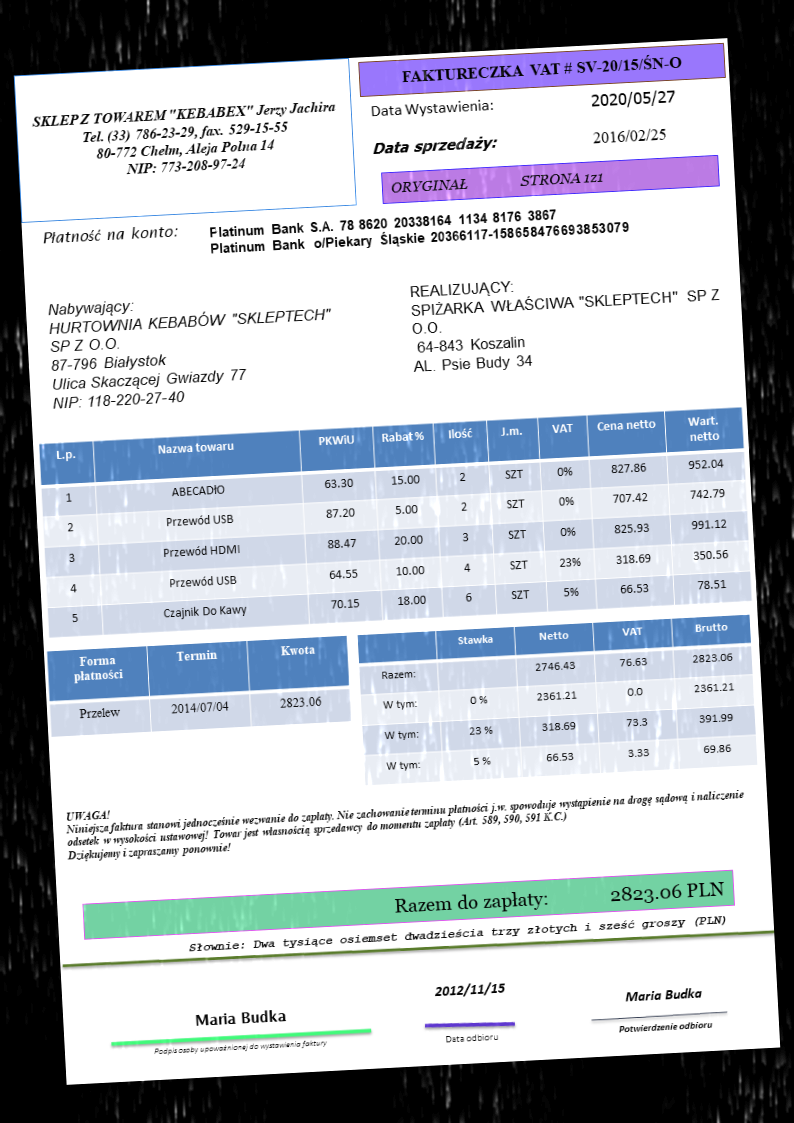Table: (37, 404, 753, 642), (354, 612, 759, 788), (46, 633, 354, 739)
TextBox: (63, 772, 747, 865), (45, 285, 339, 412), (406, 266, 726, 375), (28, 95, 340, 186), (207, 201, 634, 260), (183, 911, 728, 956), (389, 875, 727, 922), (400, 48, 689, 89), (388, 167, 606, 197), (150, 1036, 331, 1057), (40, 221, 178, 247), (366, 95, 496, 120), (370, 135, 500, 159), (588, 85, 679, 112), (191, 1006, 291, 1030), (616, 1017, 715, 1036), (621, 985, 706, 1005), (591, 125, 669, 145), (431, 979, 509, 999), (441, 1029, 503, 1046)
